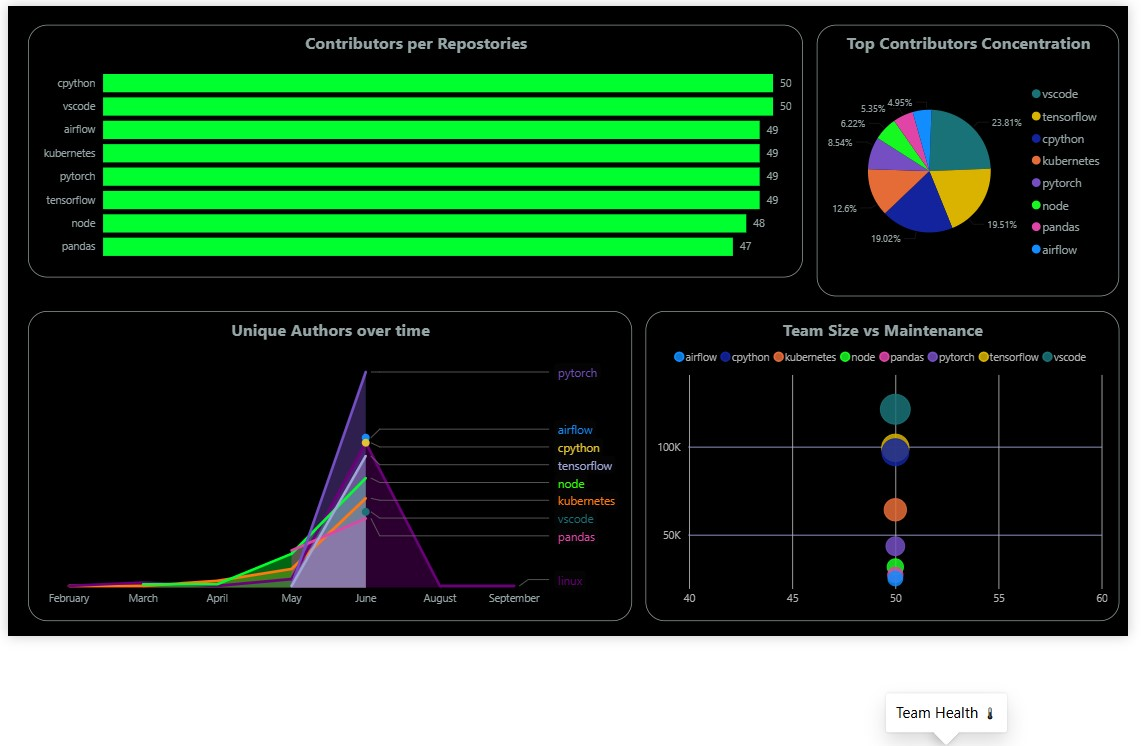

What the dashboard file says about the page in this screenshot:
{"tool":"powerbi","page":{"name":"Team Health  🌡","canvas":[1280,720],"ordinal":4},"visuals":[{"type":"clusteredBarChart","title":"Contributors per Repostories","fields":{"Category":["Repositories.repo_name"],"Y":["Count(Contributors.contribution_count)"]},"box":[22.9,21.4,885.7,288.6],"z":0},{"type":"pieChart","title":"Top Contributors Concentration","fields":{"Category":["Repositories.repo_name"],"Y":["Sum(Contributors.contribution_count)"]},"box":[924.9,22,345.8,310.1],"z":1000},{"type":"lineChart","title":"Unique Authors over time ","fields":{"Category":["Commits.commit_date.Variation.Date Hierarchy.Month"],"Y":["Count(Commits.author_name)"],"Series":["Repositories.repo_name"]},"box":[22.9,348.6,690,354.3],"z":2000},{"type":"scatterChart","title":"Team Size vs Maintenance ","fields":{"Series":["Repositories.repo_name"],"X":["Contributors.Total Contributors"],"Y":["Sum(Contributors.contribution_count)"],"Size":["Sum(Contributors.contribution_count)"]},"box":[728.6,348.6,541.4,354.3],"z":3000}]}

Visuals, with their boxes on the page's 1280x720 design canvas (x1, y1, x2, y2). These are canvas units, not pixel positions in the 1141x746 screenshot, which may show the page scaled, cropped or inside an application window:
"Contributors per Repostories" clusteredBarChart: pyautogui.locateOnScreen(23, 21, 909, 310)
"Top Contributors Concentration" pieChart: pyautogui.locateOnScreen(925, 22, 1271, 332)
"Unique Authors over time " lineChart: pyautogui.locateOnScreen(23, 349, 713, 703)
"Team Size vs Maintenance " scatterChart: pyautogui.locateOnScreen(729, 349, 1270, 703)
